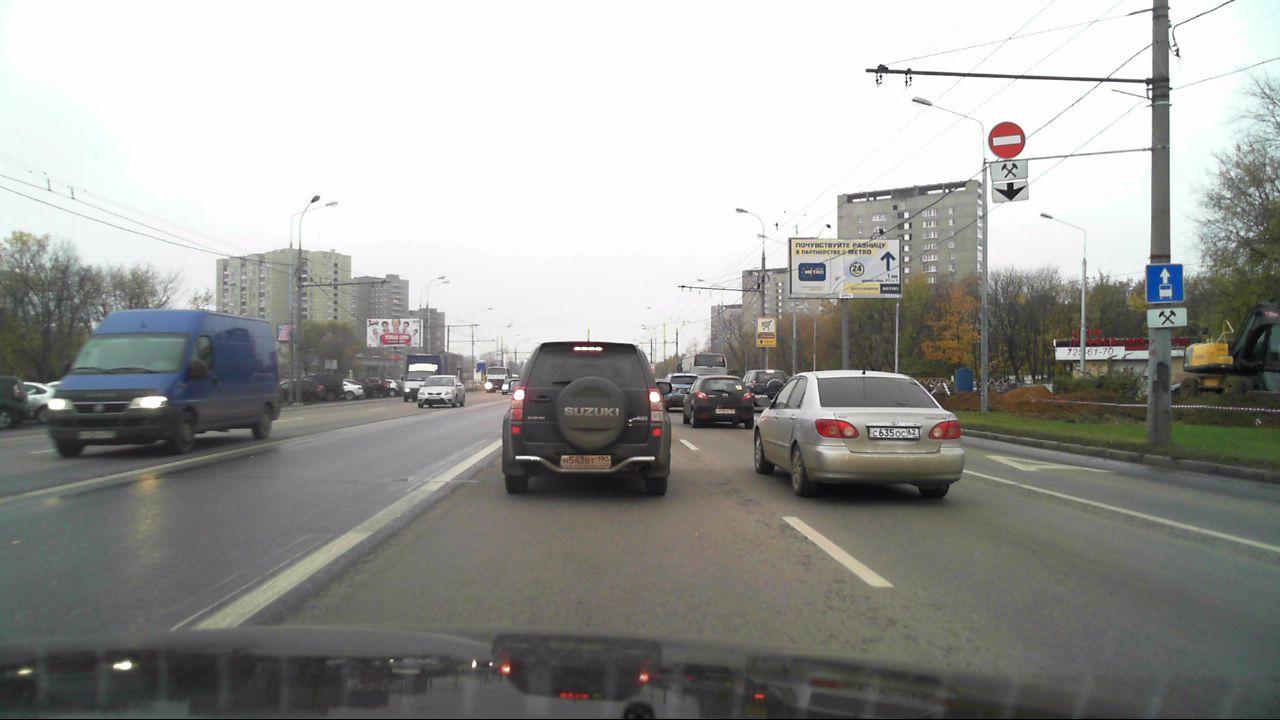3_1: (987, 120, 1027, 157)
5_14_1: (1140, 260, 1186, 305)
8_14: (989, 181, 1031, 203)
8_5_2: (1145, 306, 1188, 330), (989, 161, 1028, 179)
